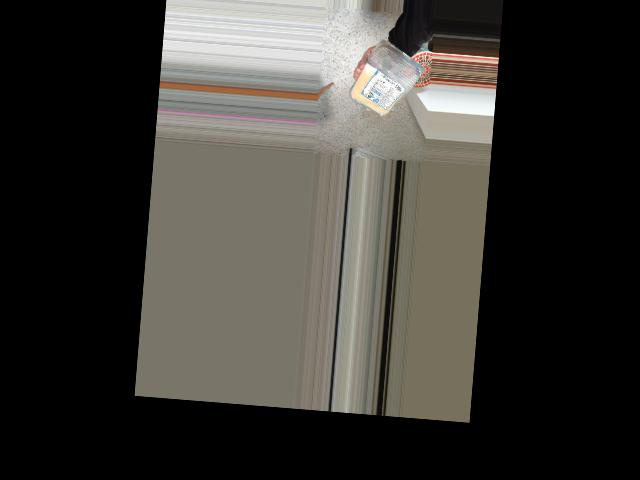cheese: (355, 43, 424, 124)
